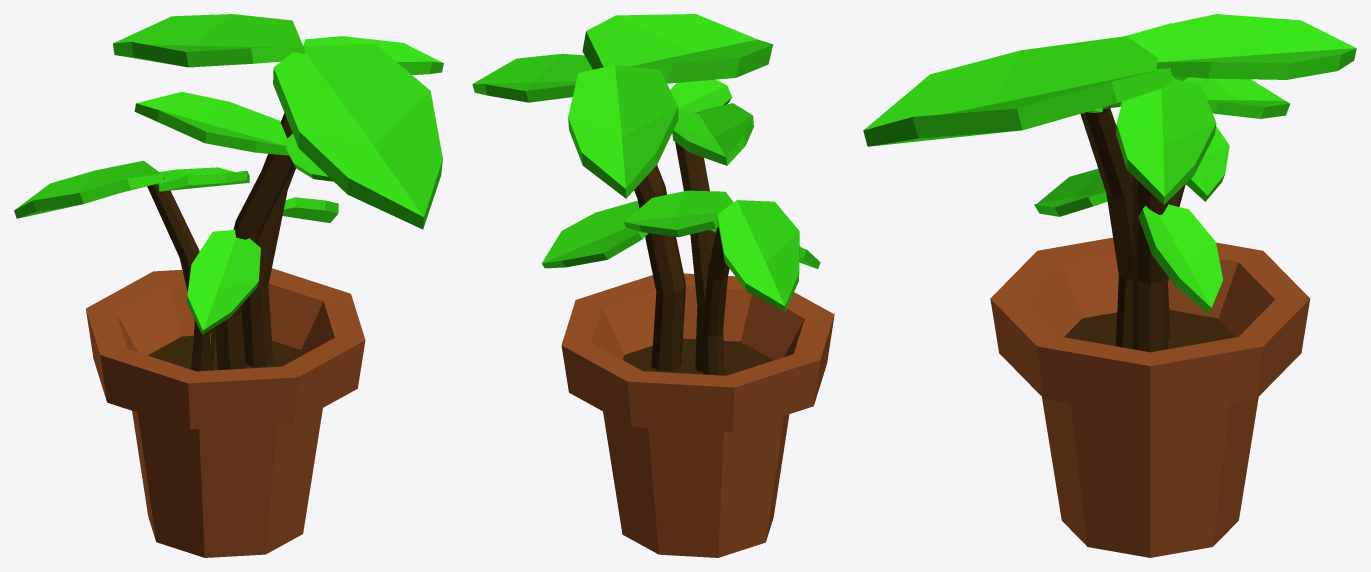
Rendered from PlantPiece.fbx.
The picture shows the model from 3 angles, left to right: view 1: azimuth 30°, elevation 25°; view 2: azimuth 150°, elevation 25°; view 3: azimuth 270°, elevation 25°; orthographic projection. The views are drawn at different scales.
Visible parts, largest first — view 1: Cylinder.054; view 2: Cylinder.054; view 3: Cylinder.054.
Boxes of the visible parts, left/top/right/bottom form: Cylinder.054: left=14, top=14, right=443, bottom=557; Cylinder.054: left=472, top=14, right=834, bottom=557; Cylinder.054: left=863, top=14, right=1356, bottom=557.
Size of the model in its own units: 383 by 453 by 395.
